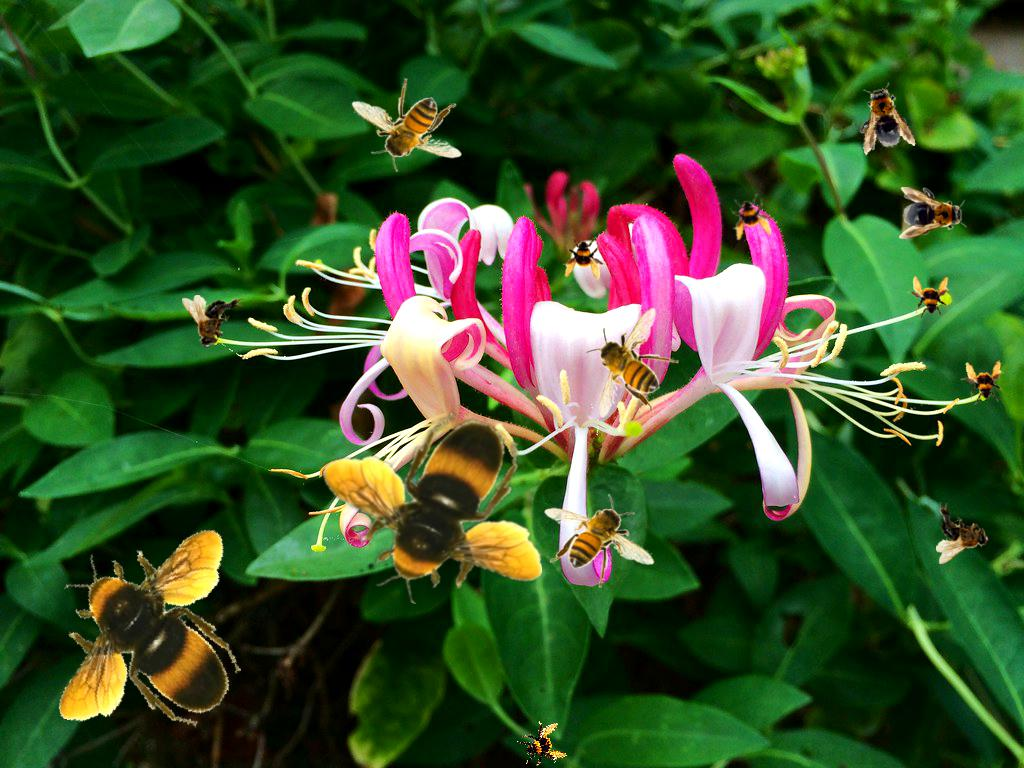Bee: (33, 497, 273, 758), (322, 413, 542, 604), (585, 307, 679, 418), (544, 494, 655, 588), (351, 78, 462, 172), (850, 79, 916, 157), (899, 187, 967, 239), (182, 295, 244, 348), (936, 502, 989, 564), (513, 715, 571, 768), (725, 190, 779, 244), (958, 357, 1008, 407), (905, 273, 953, 321), (563, 236, 607, 280)
